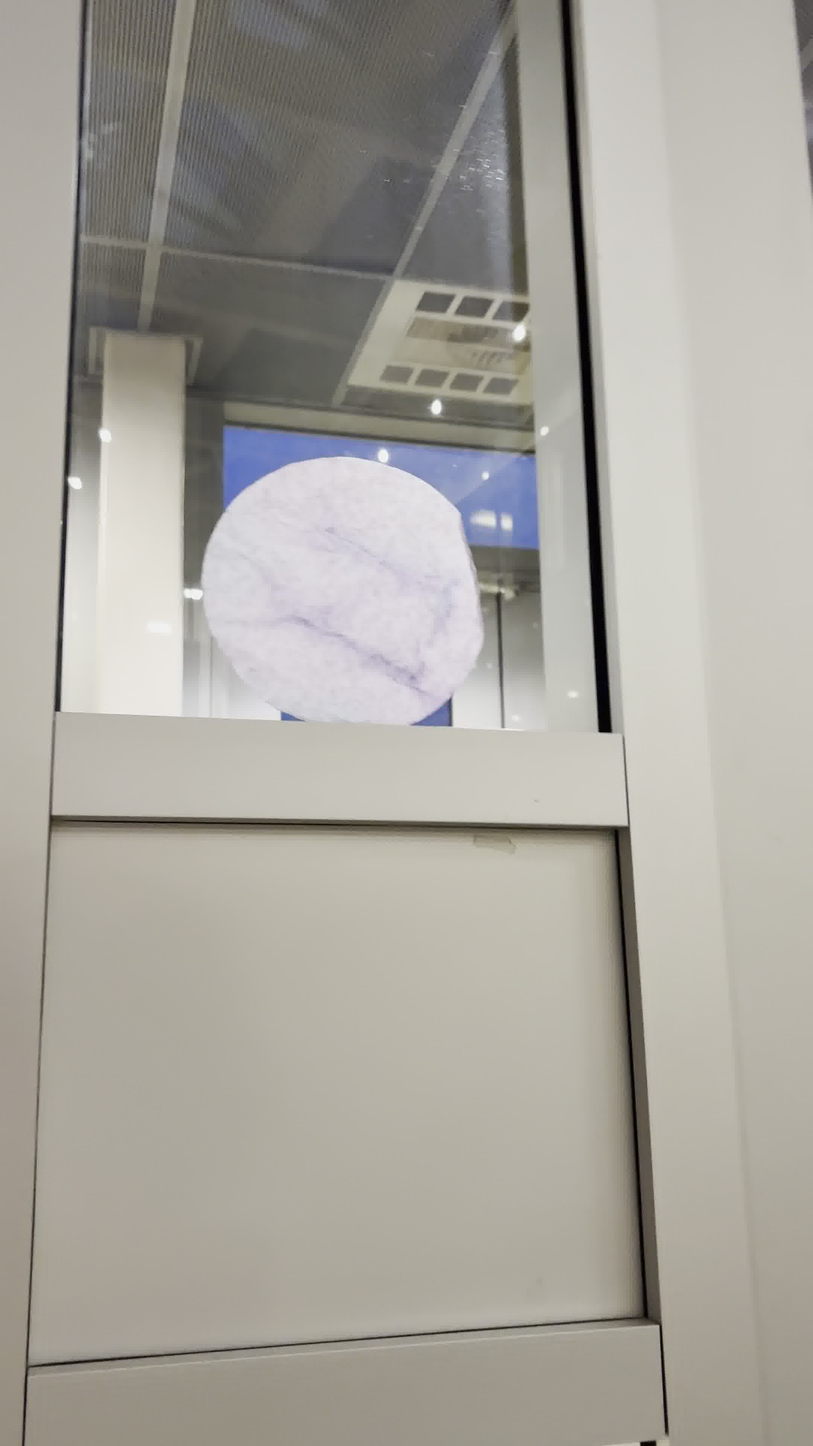Target: (195, 455, 483, 731)
